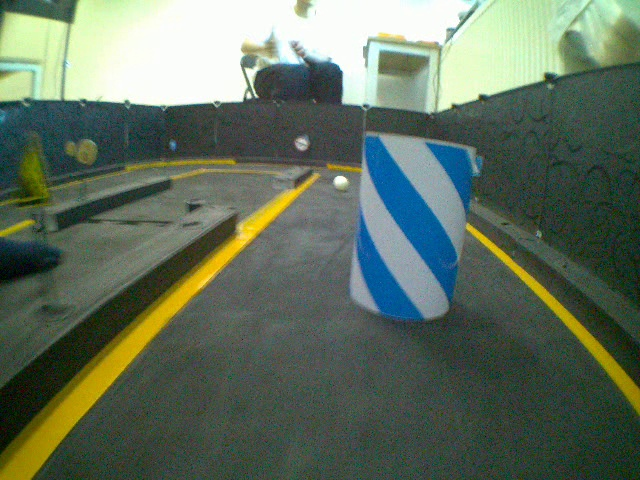ball: (333, 173, 349, 192)
bucket: (348, 130, 479, 323)
